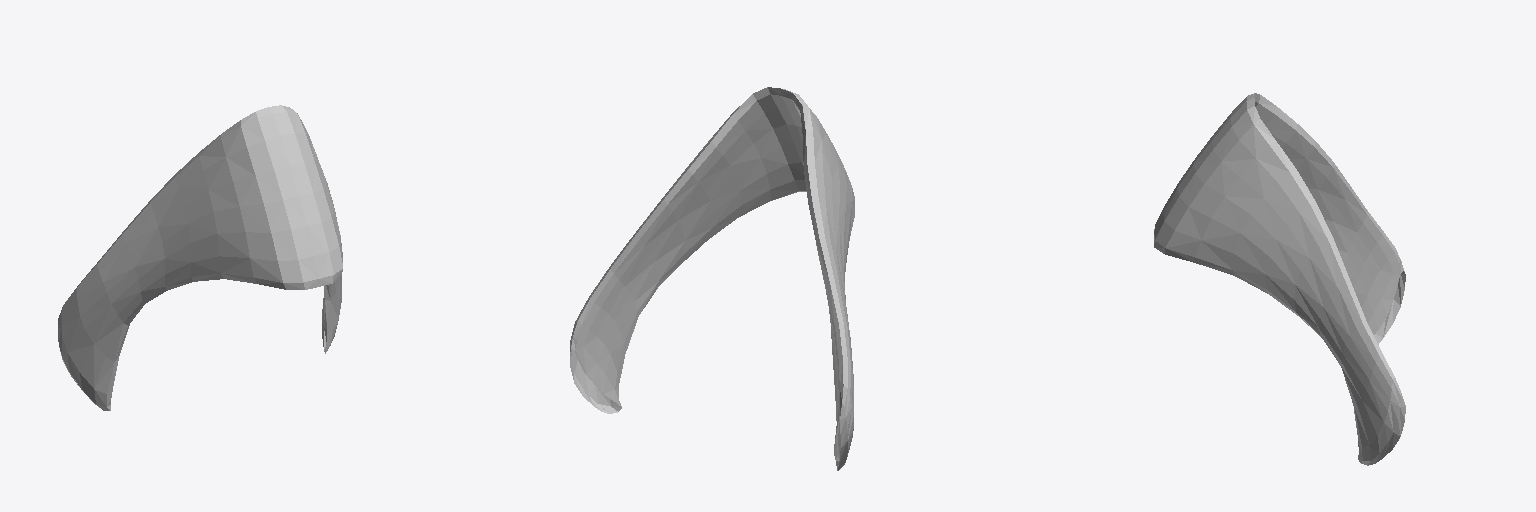
The model's file is nasalis.obj.
3 views of the same model, side by side, from view 1: azimuth 30°, elevation 25°; view 2: azimuth 150°, elevation 25°; view 3: azimuth 270°, elevation 25° (orthographic).
Parts seen in each view (by area): view 1: Procerus_Muscle1; view 2: Procerus_Muscle1; view 3: Procerus_Muscle1.
Boxes of the visible parts, box(x1,y1,x2,y2) form: Procerus_Muscle1: box(58, 105, 342, 410); Procerus_Muscle1: box(570, 87, 854, 470); Procerus_Muscle1: box(1154, 93, 1405, 465).
Size of the model in its own units: 0.3725 by 0.4035 by 0.2911.